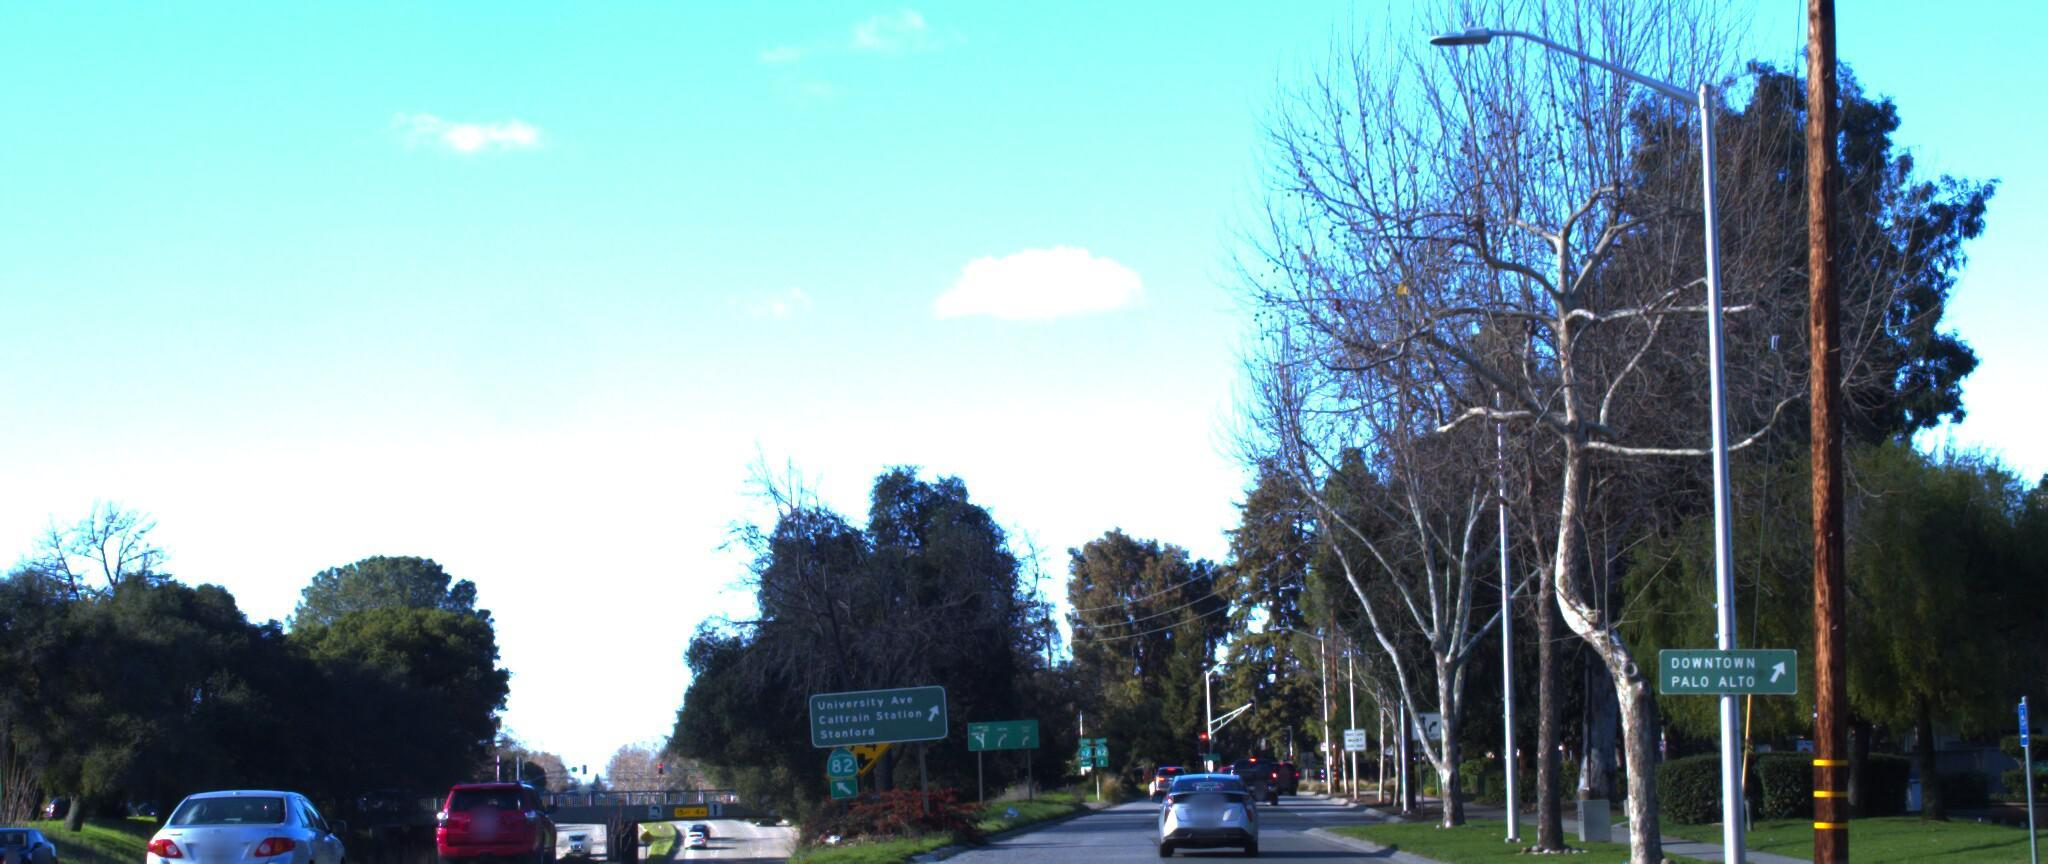car: (142, 773, 364, 864), (428, 770, 562, 864), (1144, 760, 1256, 852)
